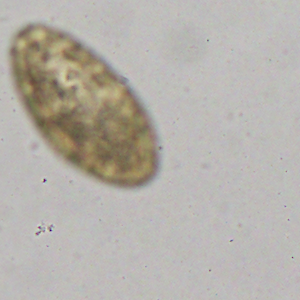Fasciola_hepatica_egg: (9, 20, 160, 188)
